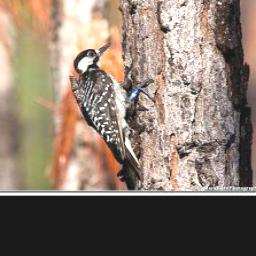Woodpecker: (62, 36, 165, 190)
